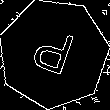P_S: (28, 23, 79, 84)
